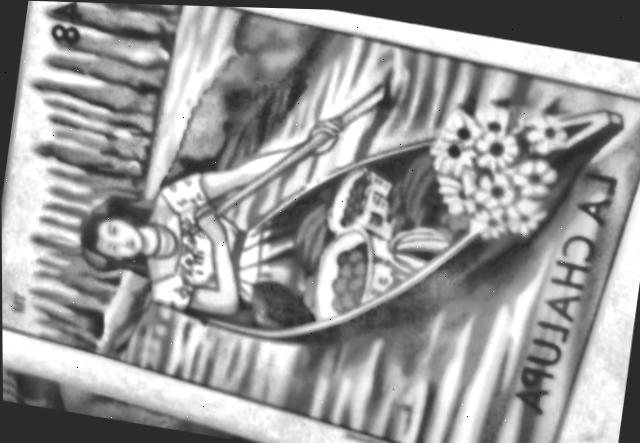La Chalupa: (1, 1, 640, 443)
